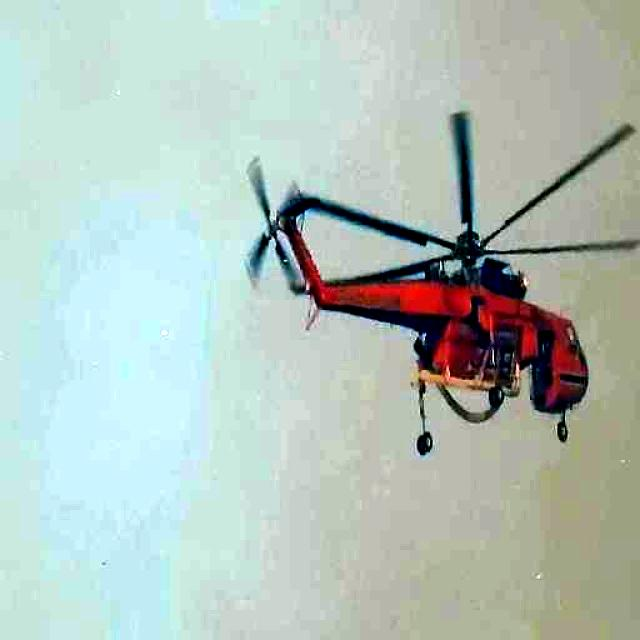drone: (238, 81, 640, 458)
